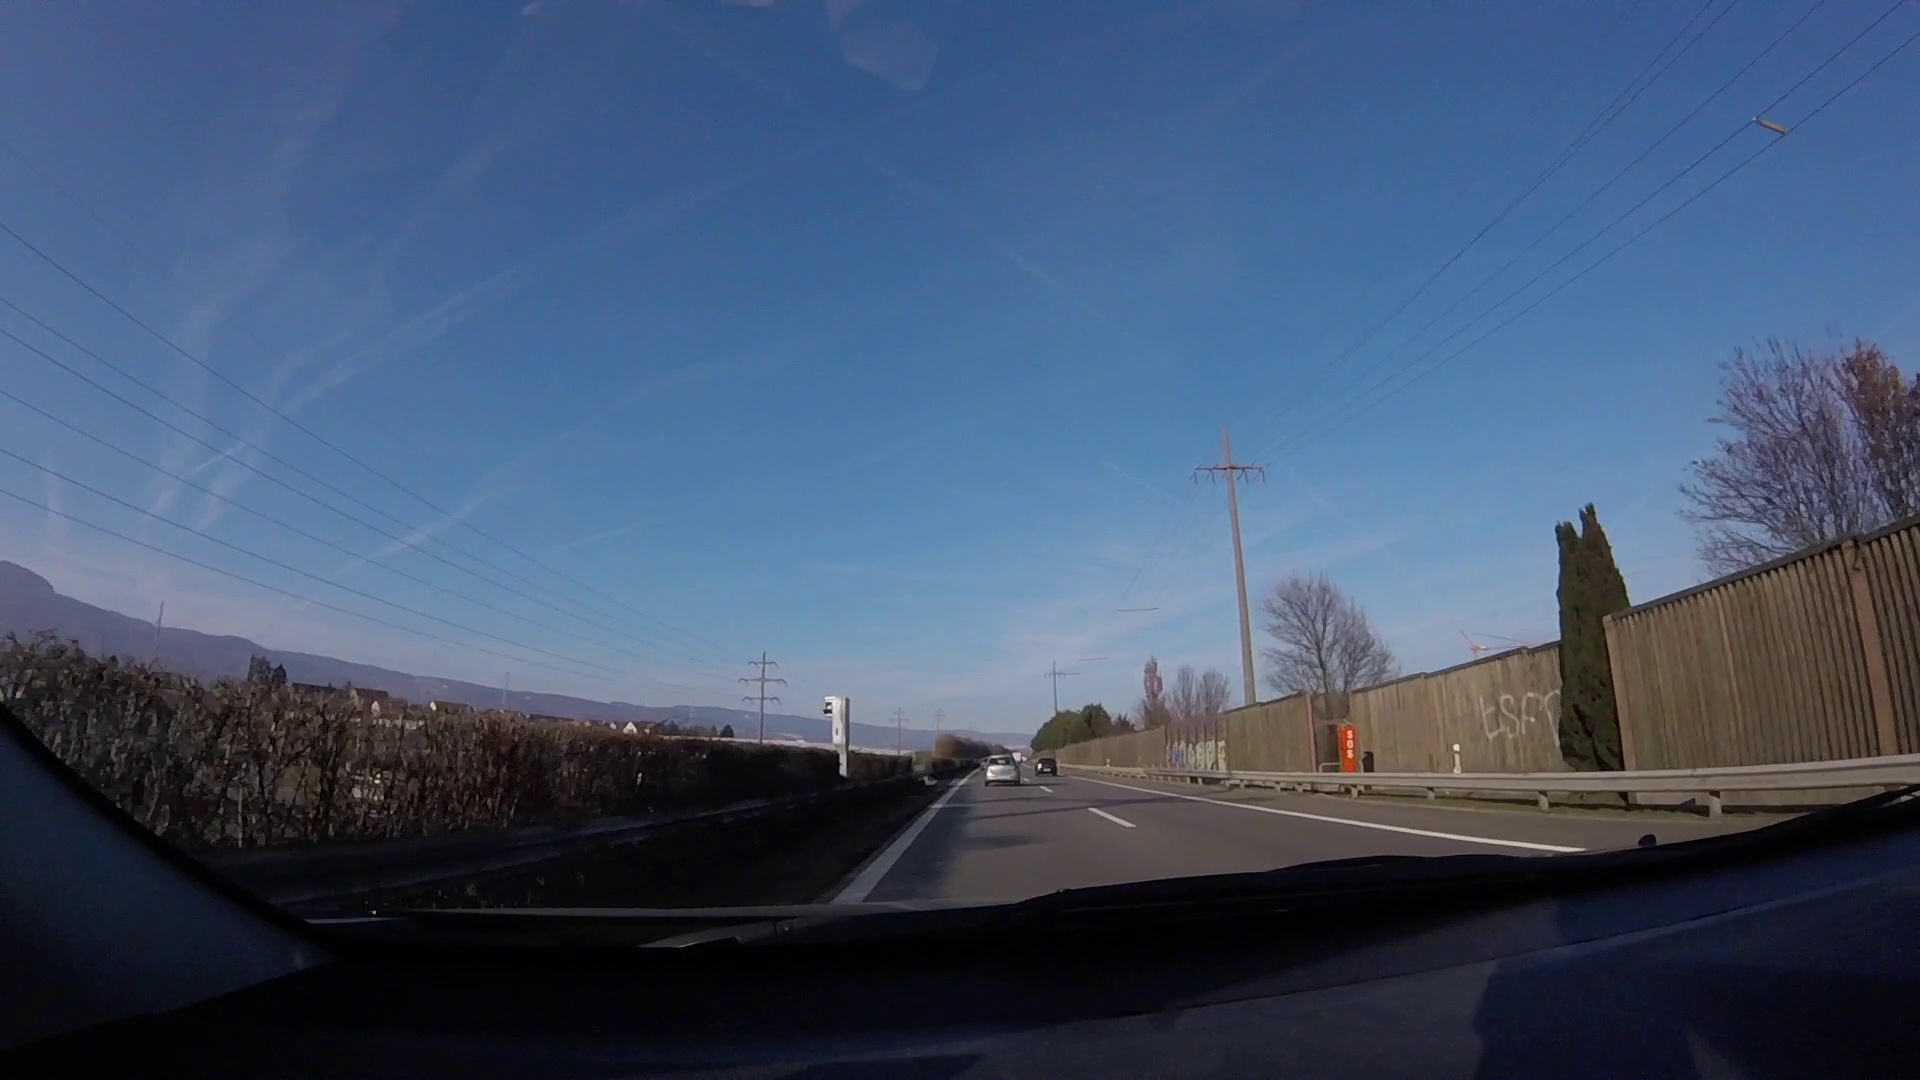radar: (822, 695, 853, 778)
